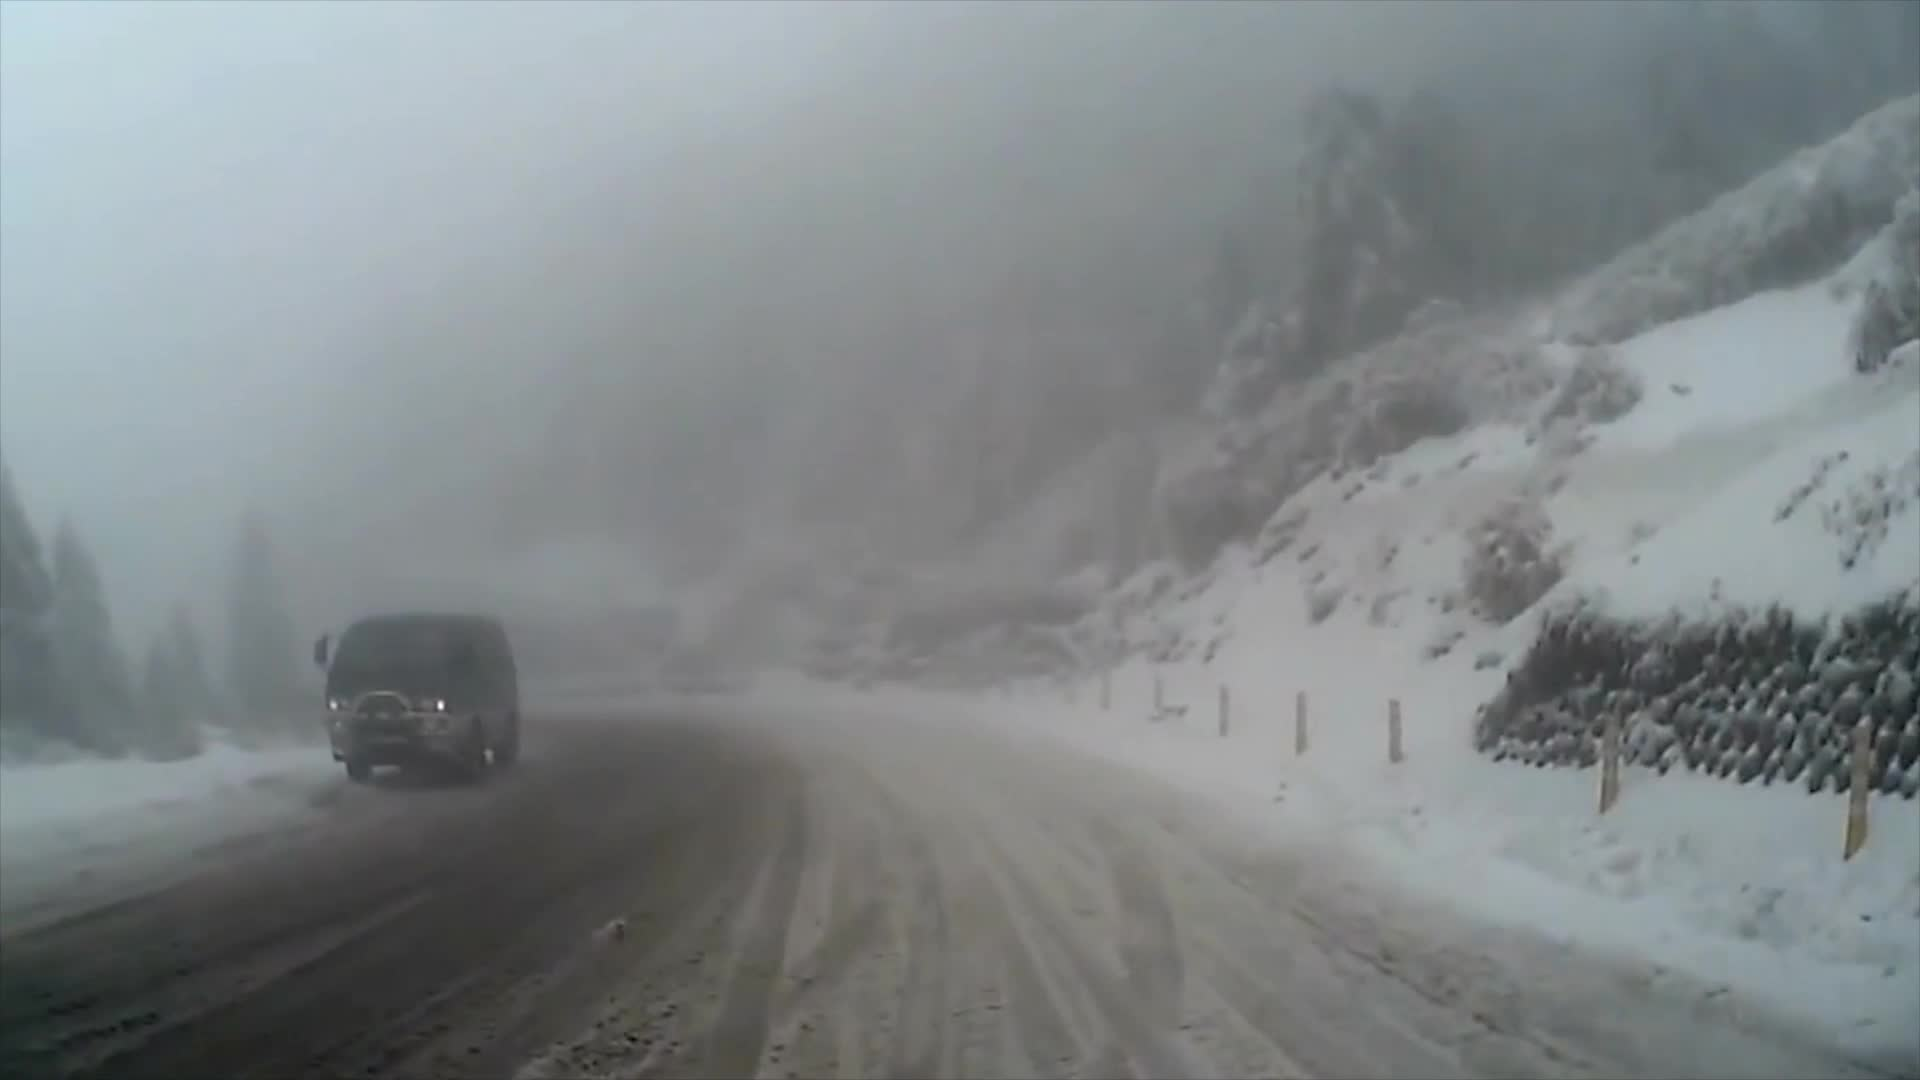vehicle: (313, 612, 525, 787)
